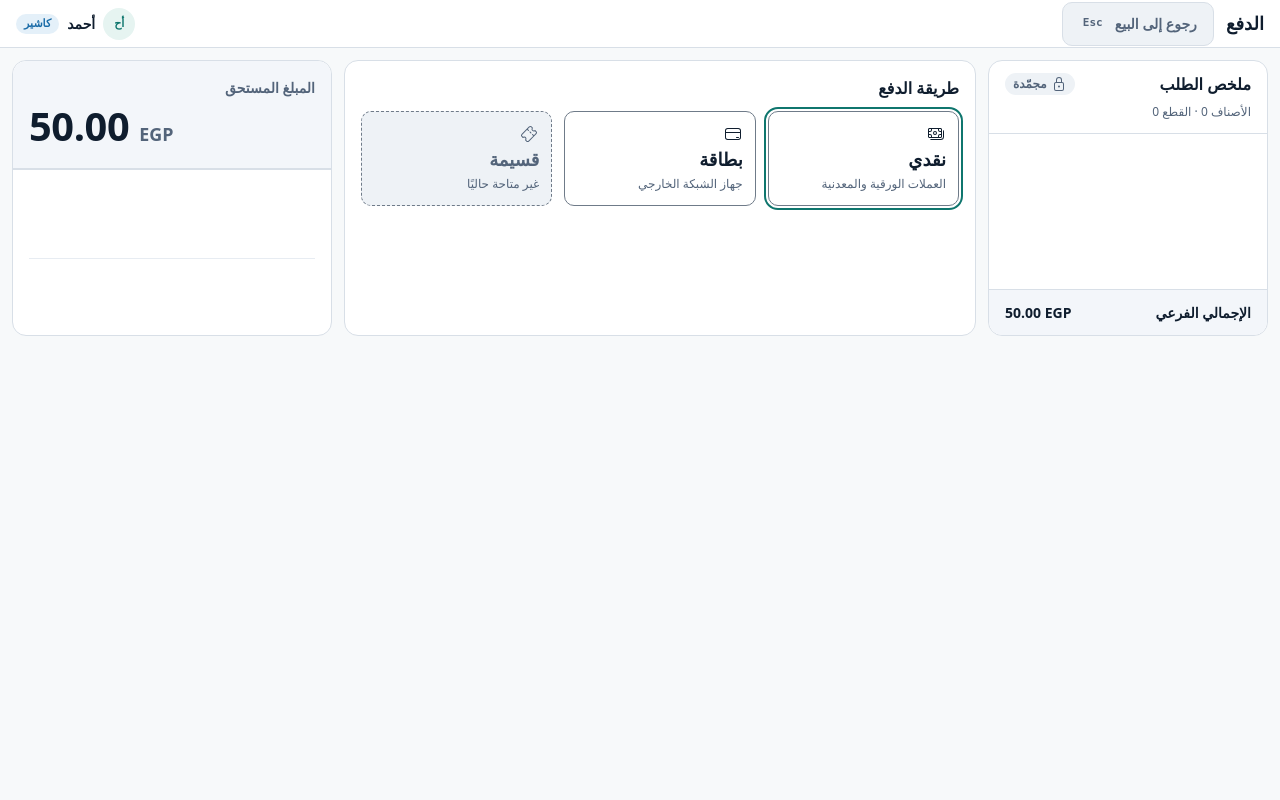
it: RT-256 — card cancel requires a terminal void before another charge (M-P13) › a card applied in this Checkout is recognised even when the read after apply failed (Codex P1)
Click the radio button with test id "tender-external-card".
click(660, 158)  # box 564,111 -> 756,206
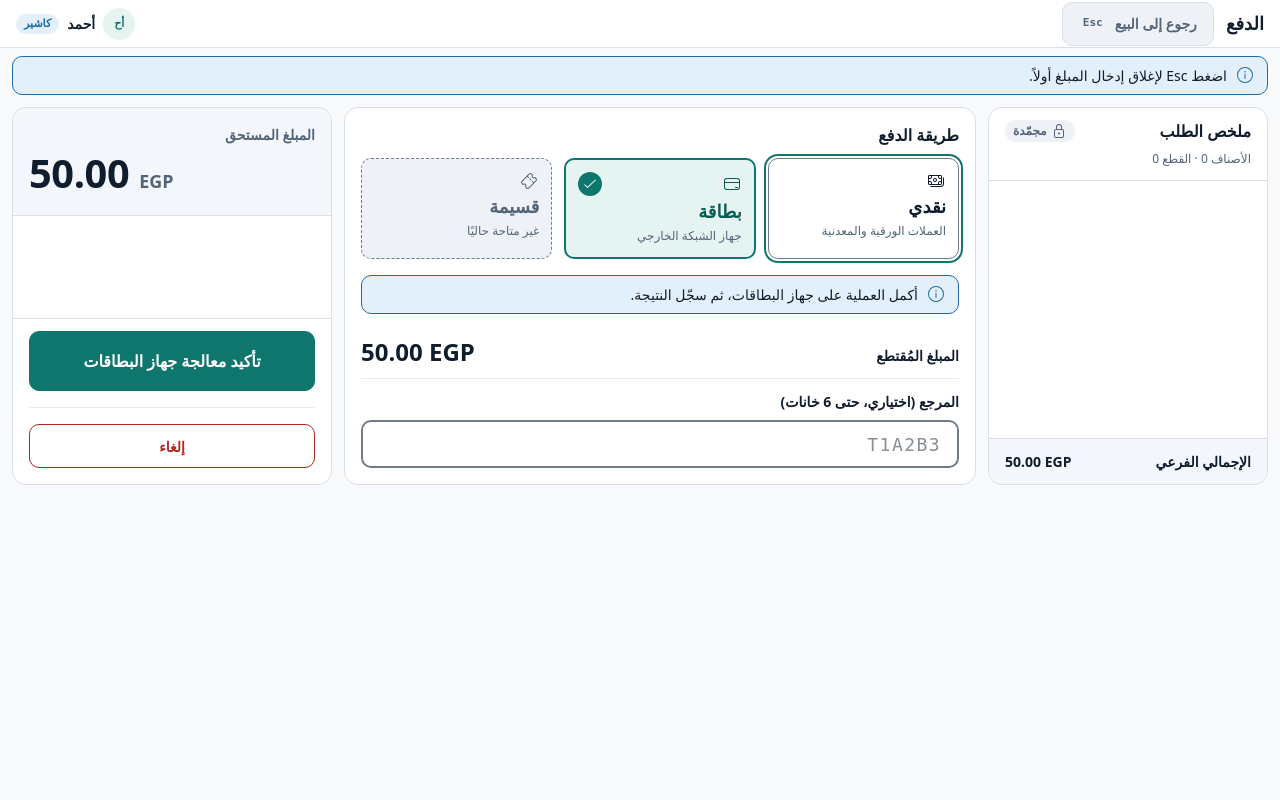
expect the element with test id "external-card-terminal-entry" is shown: met, box 361,275 -> 959,468
Click the button with test id "external-card-confirm".
click(172, 361)  # box 29,331 -> 315,391
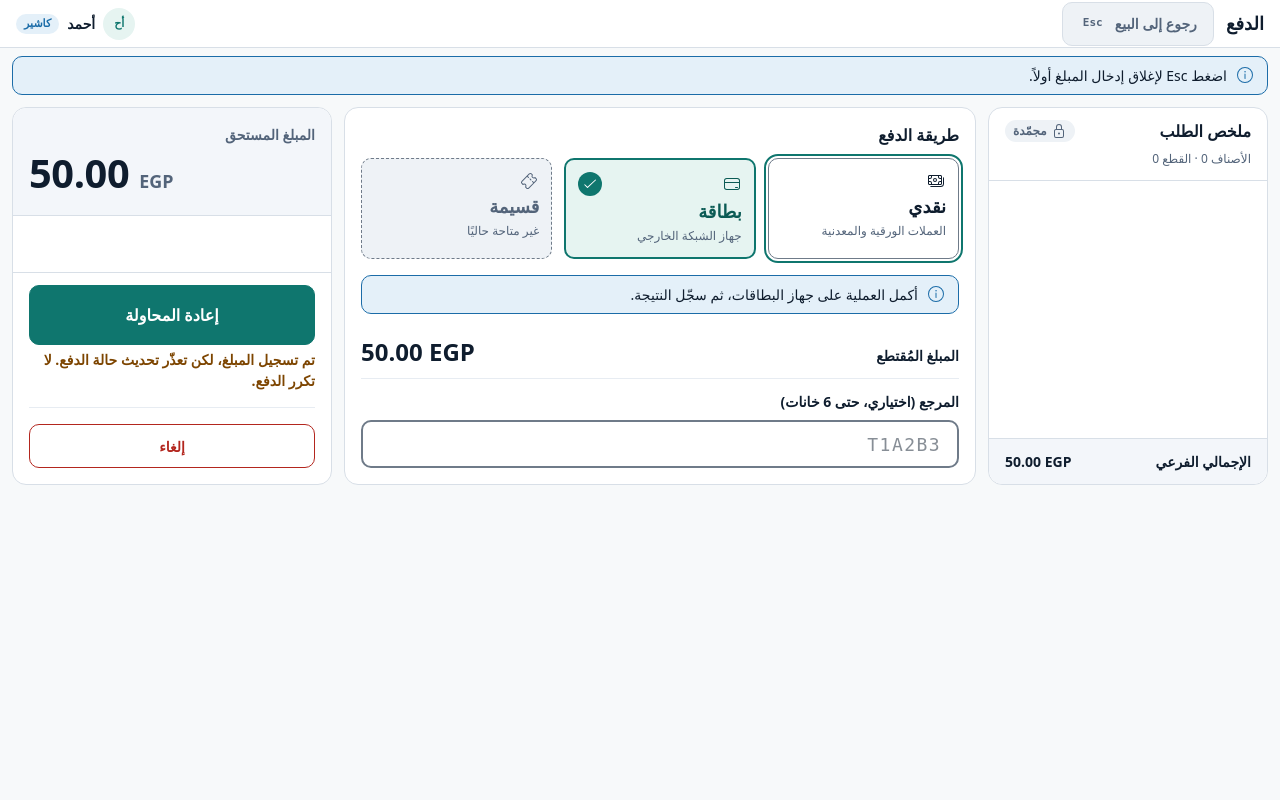
expect the button with test id "payment-surface-reread" is shown: met, box 29,285 -> 315,345
Click the button with test id "payment-surface-cancel".
click(172, 446)  # box 29,424 -> 315,468
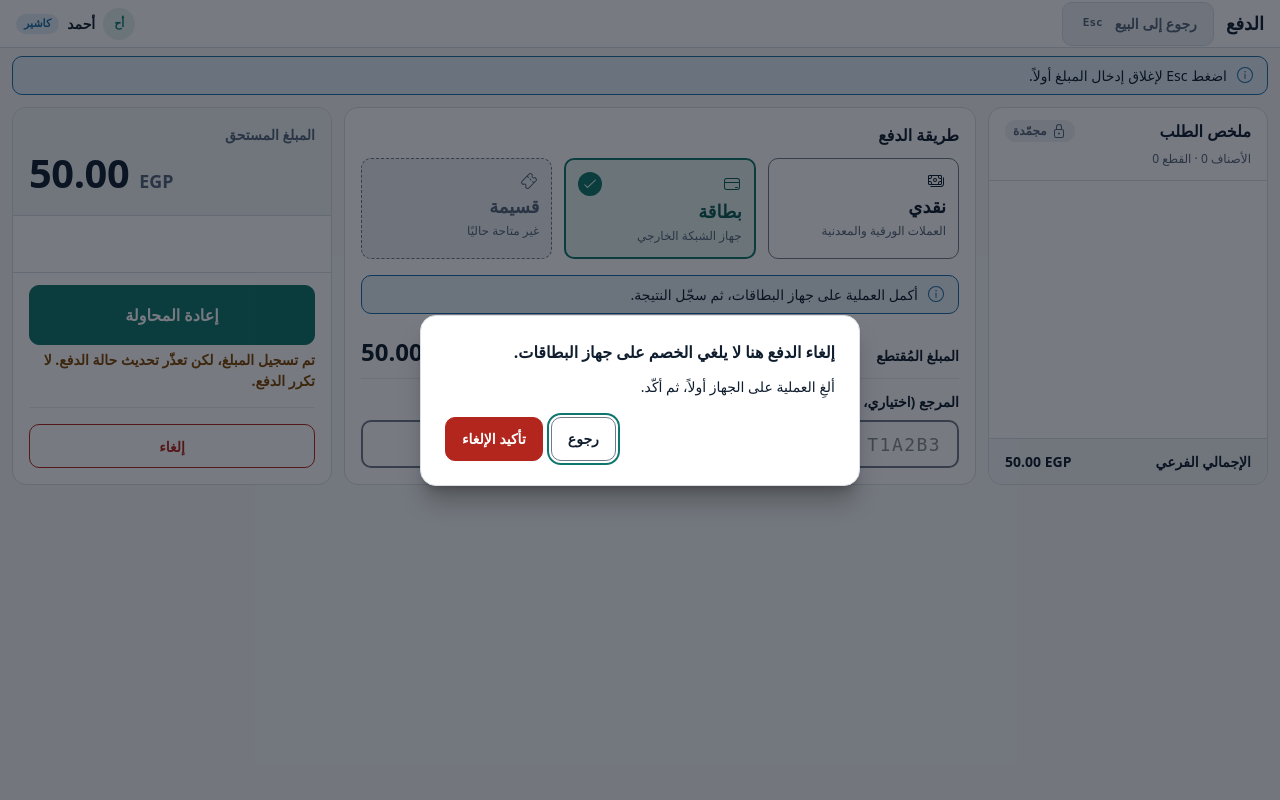
Click the button "تأكيد الإلغاء".
click(494, 438)  # box 445,416 -> 543,460
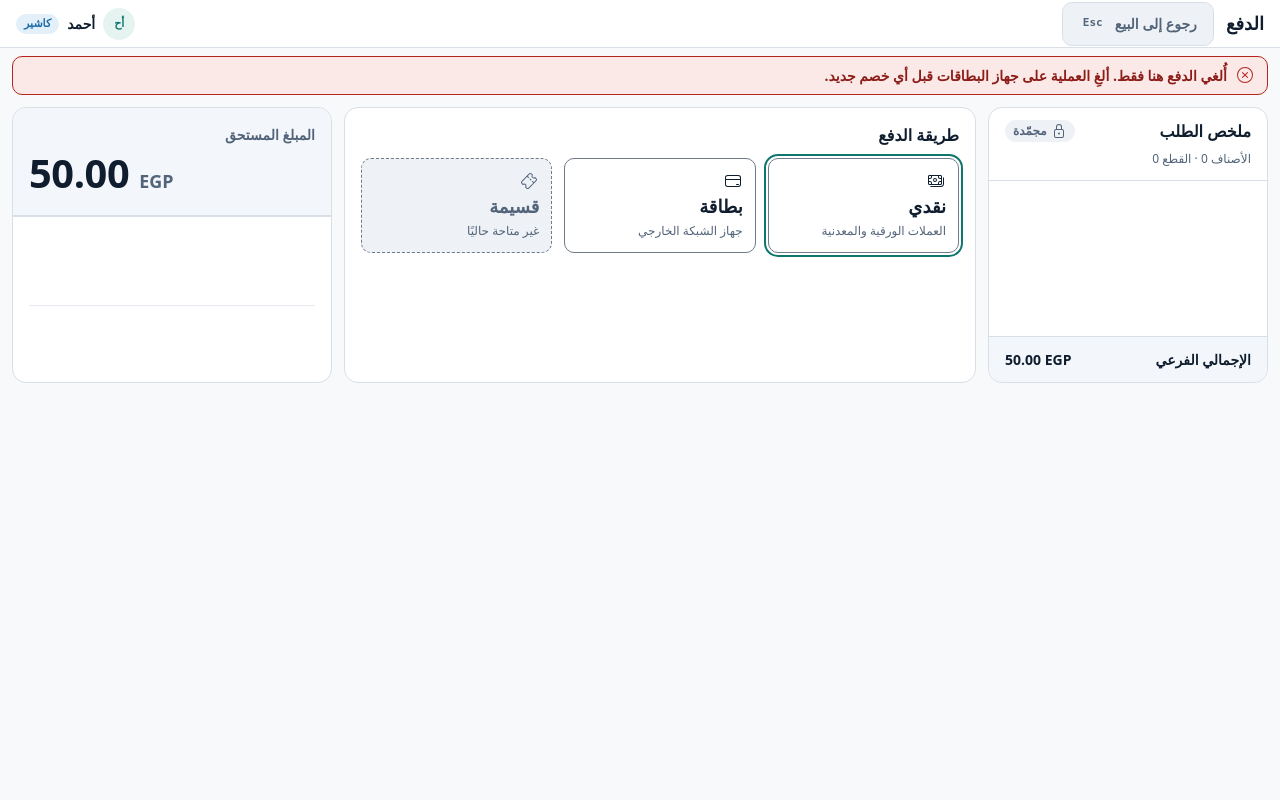
expect the element with test id "payment-surface-back-blocked" reads "أُلغي الدفع هنا فقط. ألغِ العملية على جهاز البطاقات قبل أي خصم جديد.": met, box 824,66 -> 1227,85
